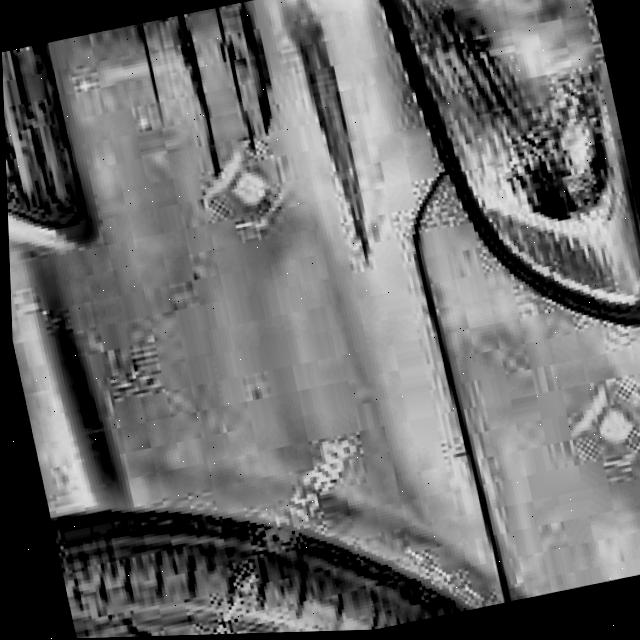bumper_scratch: (131, 0, 387, 295)
